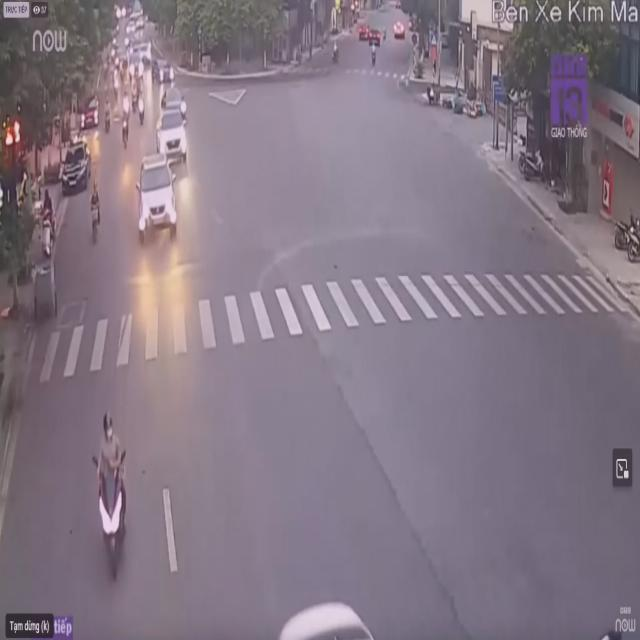car: (234, 598, 414, 640), (136, 154, 178, 238), (60, 136, 91, 192)
motorbike: (92, 413, 134, 588), (89, 182, 104, 235)
